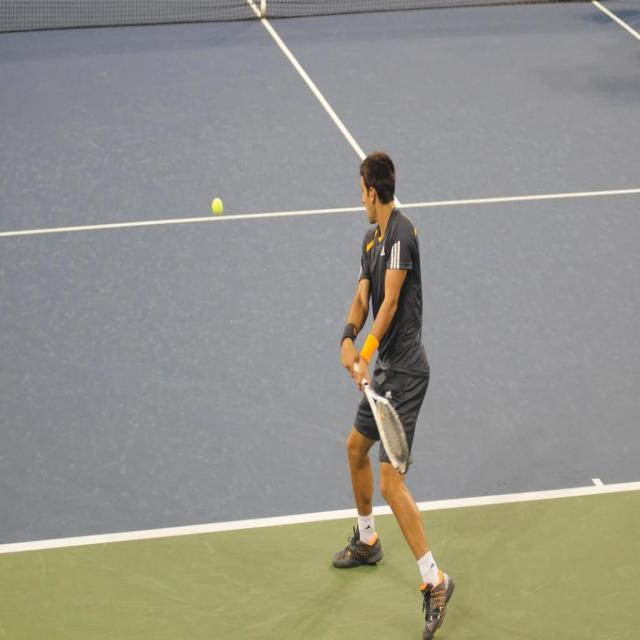Tennis ball: (211, 198, 223, 214)
